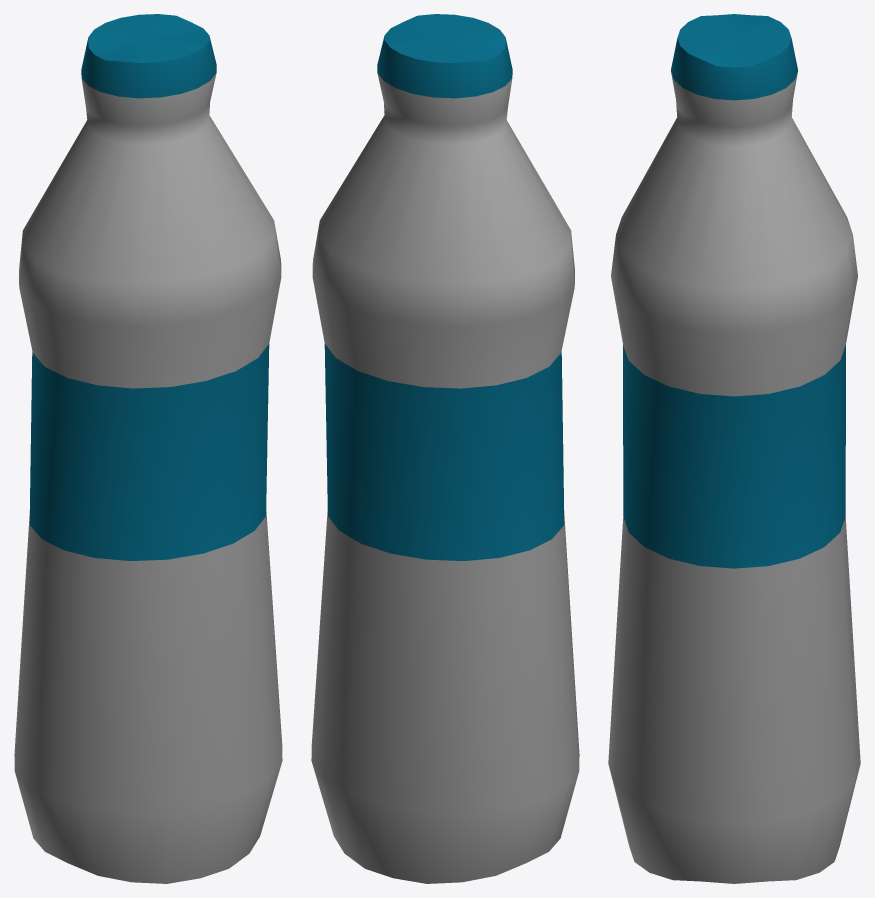
The model's file is Water.fbx.
3 renders of one model, left to right at view 1: azimuth 30°, elevation 25°; view 2: azimuth 150°, elevation 25°; view 3: azimuth 270°, elevation 25°, orthographic.
Parts seen in each view (by area): view 1: pCylinder1; view 2: pCylinder1; view 3: pCylinder1.
Part boxes in pixels (x1,y1,x2,y2): pCylinder1: [14, 14, 282, 883]; pCylinder1: [311, 14, 579, 883]; pCylinder1: [608, 14, 860, 883].
Bounding box in the file's own units: 3.09 × 9.83 × 2.78.
